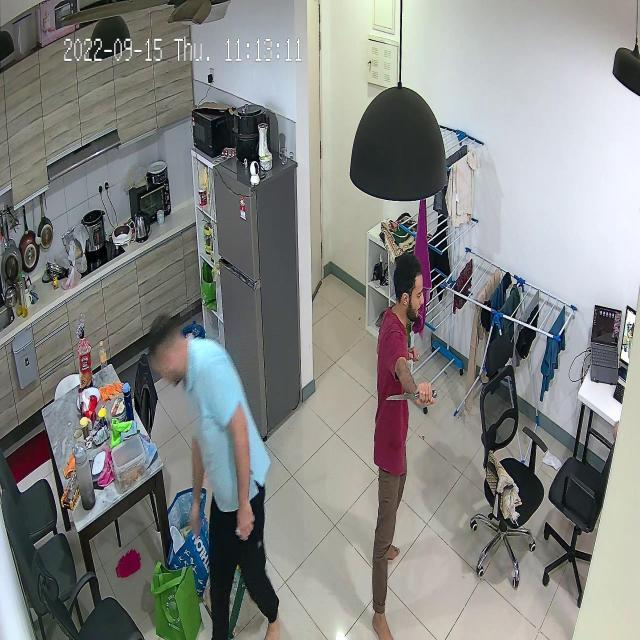Knife: (375, 384, 439, 414)
